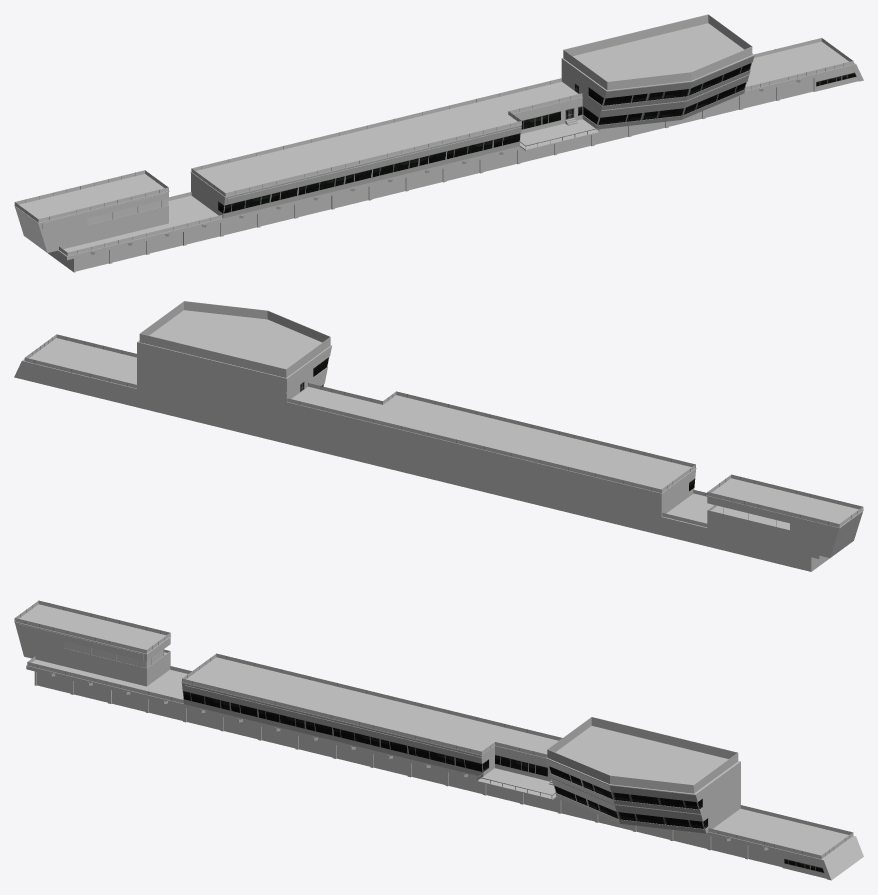
File: Building-Grid-10.fbx
3 views of the same model, one above another, from view 1: azimuth 30°, elevation 25°; view 2: azimuth 150°, elevation 25°; view 3: azimuth 330°, elevation 25° (orthographic).
Parts seen in each view (by area): view 1: Building-Grid-10, Building-Poster; view 2: Building-Grid-10, Building-Poster; view 3: Building-Grid-10, Building-Poster.
Part boxes in pixels (x1,y1,x2,y2): Building-Grid-10: [14, 23, 863, 272]; Building-Poster: [42, 14, 752, 228]; Building-Grid-10: [14, 310, 863, 571]; Building-Poster: [139, 301, 330, 377]; Building-Grid-10: [14, 600, 863, 880]; Building-Poster: [19, 624, 738, 793].
Bounding box in the file's own units: 26455 × 2264 × 3169.
